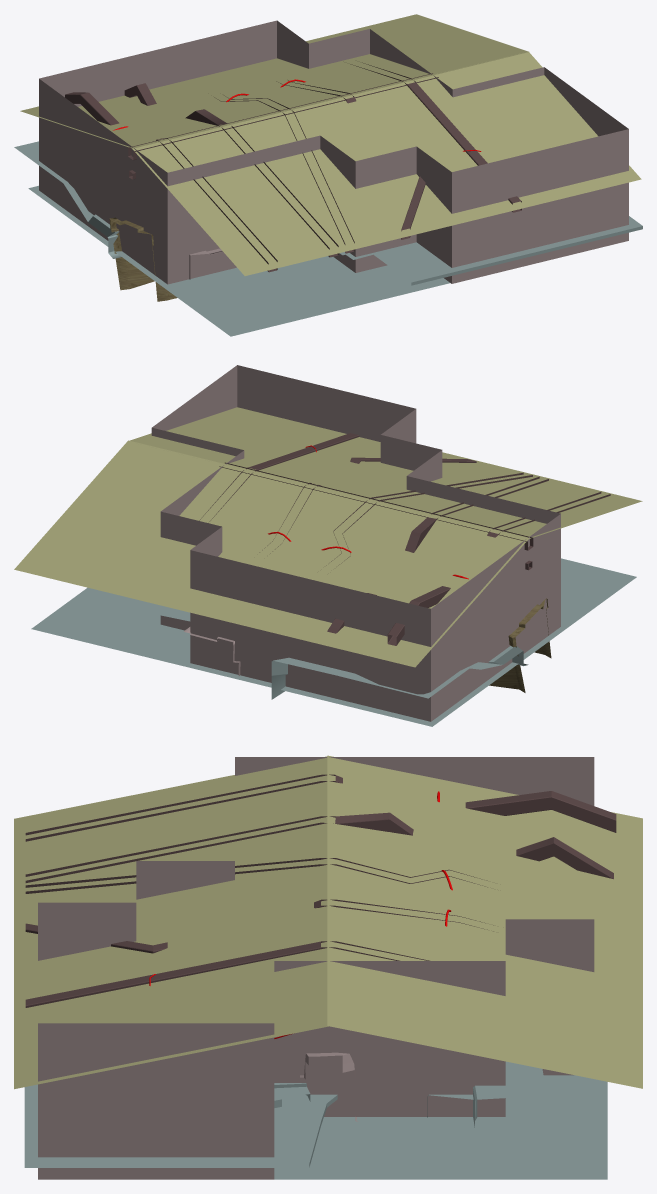
The model's file is Nivel_1_Probando.fbx.
3 views of the same model, one above another, from view 1: azimuth 30°, elevation 25°; view 2: azimuth 150°, elevation 25°; view 3: azimuth 270°, elevation 25° (orthographic). The views are drawn at different scales.
Visible parts, largest first — view 1: Techo, Paredes, PISO1, Vigas, Protuberancia_Piso, Protuberancia_Normal; view 2: Techo, Paredes, PISO1, Vigas, Protuberancia_Piso, Protuberancia_Normal; view 3: Techo, Paredes, PISO1, Vigas, Protuberancia_Piso.
Boxes of the visible parts, x1,y1,x2,y2 form: Techo: (20, 14, 641, 275); Paredes: (39, 20, 628, 284); PISO1: (28, 185, 449, 336); Vigas: (65, 62, 521, 272); Protuberancia_Piso: (14, 141, 642, 285); Protuberancia_Normal: (109, 217, 177, 301); Techo: (14, 407, 642, 667); Paredes: (151, 365, 560, 721); PISO1: (31, 558, 636, 726); Vigas: (199, 433, 610, 645); Protuberancia_Piso: (131, 600, 528, 699); Protuberancia_Normal: (489, 598, 551, 692); Techo: (14, 755, 642, 1089); Paredes: (38, 757, 594, 1179); PISO1: (274, 1075, 607, 1179); Vigas: (25, 774, 616, 1007); Protuberancia_Piso: (24, 1061, 546, 1167).
Size of the model in its own units: 13.47 by 4.76 by 12.78.
